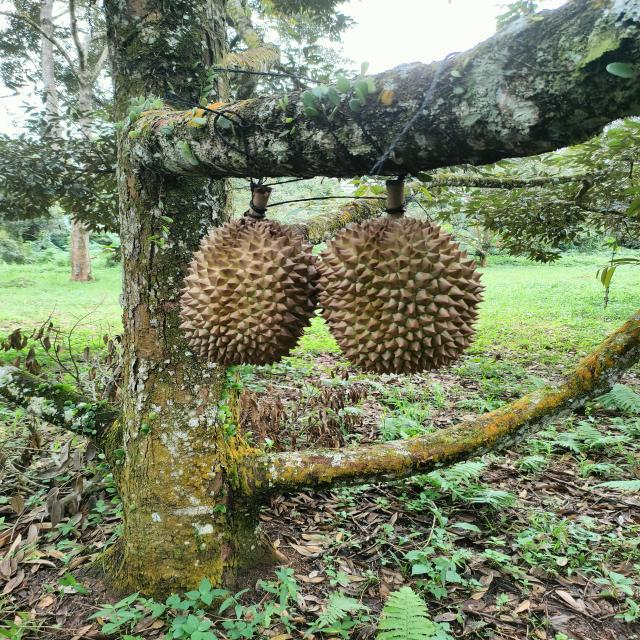mature: (317, 218, 483, 374), (180, 218, 318, 366)
